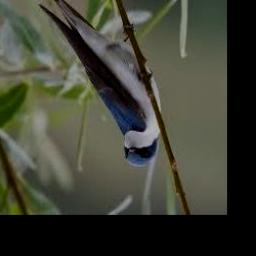Swallow: (39, 0, 162, 167)
